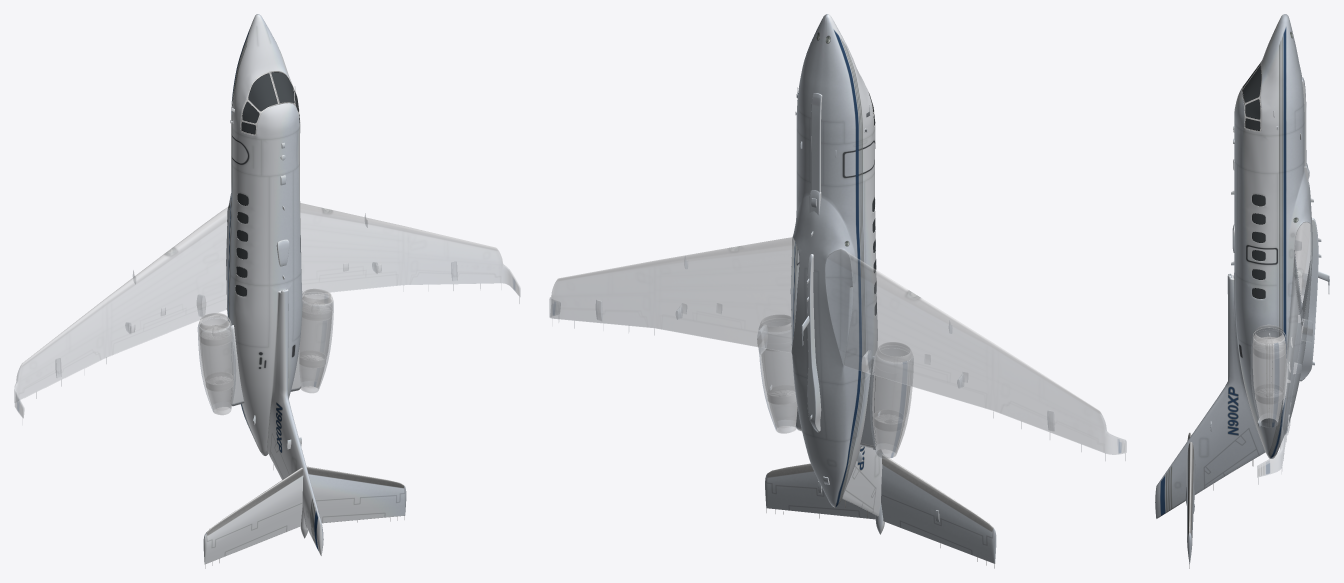
3 renders of one model, left to right at view 1: azimuth 30°, elevation 25°; view 2: azimuth 150°, elevation 25°; view 3: azimuth 270°, elevation 25°, orthographic. The views are drawn at different scales.
Parts seen in each view (by area): view 1: airplane; view 2: airplane; view 3: airplane.
Part boxes in pixels (x1,y1,x2,y2): airplane: (14,14,520,568); airplane: (549,14,1126,568); airplane: (1155,14,1329,568).
Size of the model in its own units: 15.77 by 15.02 by 4.71.
Materials: 2 (2 with a texture image).
